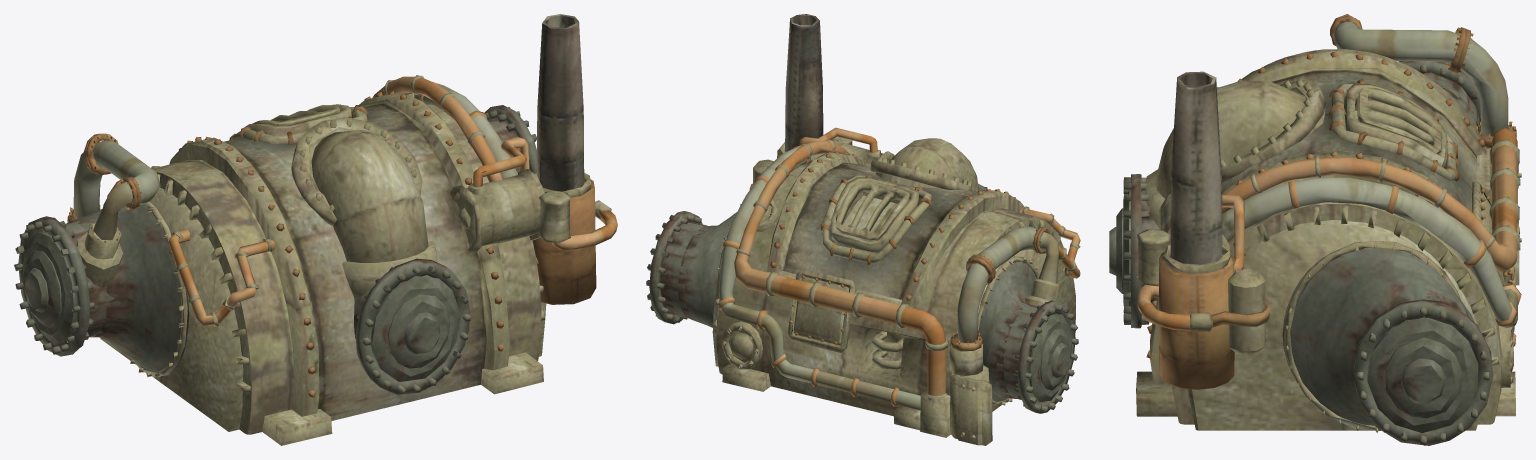
The model's file is boiler-south.glb.
The picture shows the model from 3 angles, left to right: view 1: azimuth 30°, elevation 25°; view 2: azimuth 150°, elevation 25°; view 3: azimuth 270°, elevation 25°; orthographic projection. The views are drawn at different scales.
Visible parts, largest first — view 1: body; view 2: body; view 3: body.
Boxes of the visible parts, x1,y1,x2,y2 form: body: (14,14,617,445); body: (646,14,1080,445); body: (1109,14,1521,445).
Size of the model in its own units: 3.09 by 1.96 by 2.03.
Materials: 1 (1 with a texture image).
